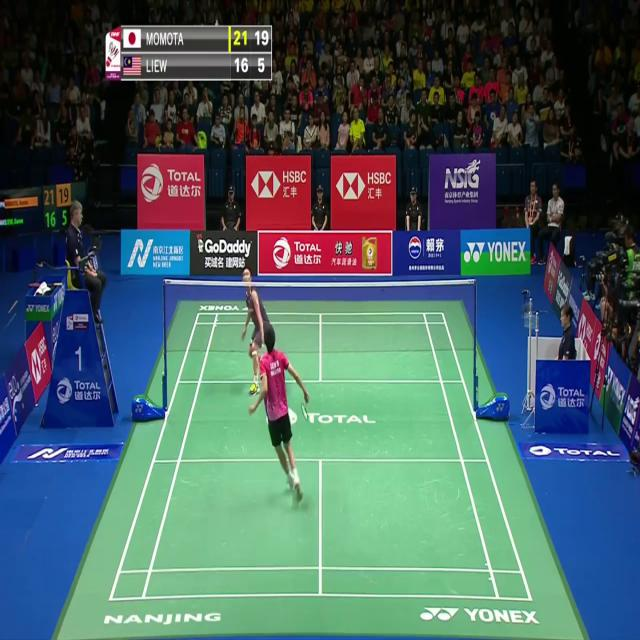Shuttlecock: (213, 16, 220, 28)
